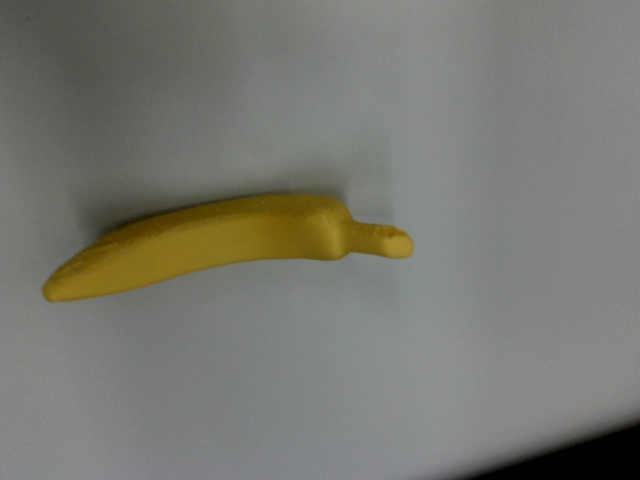banana: (34, 177, 414, 303)
